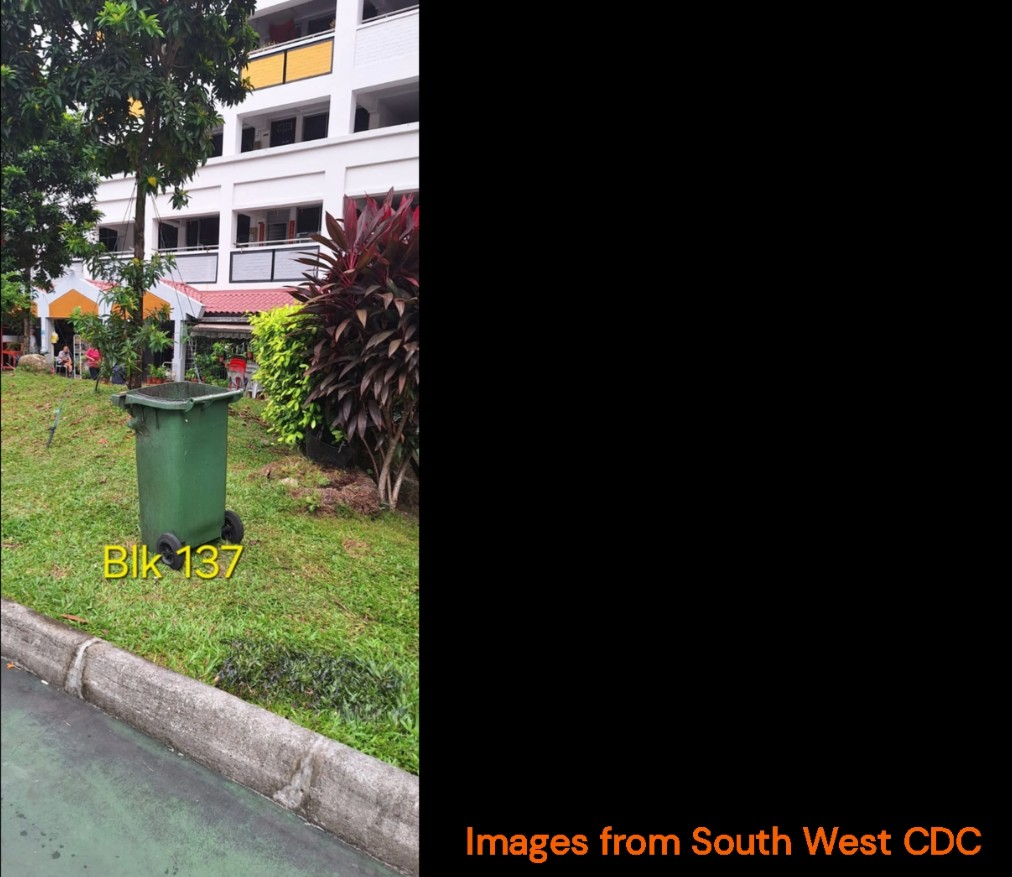bin_empty: (112, 381, 243, 568)
